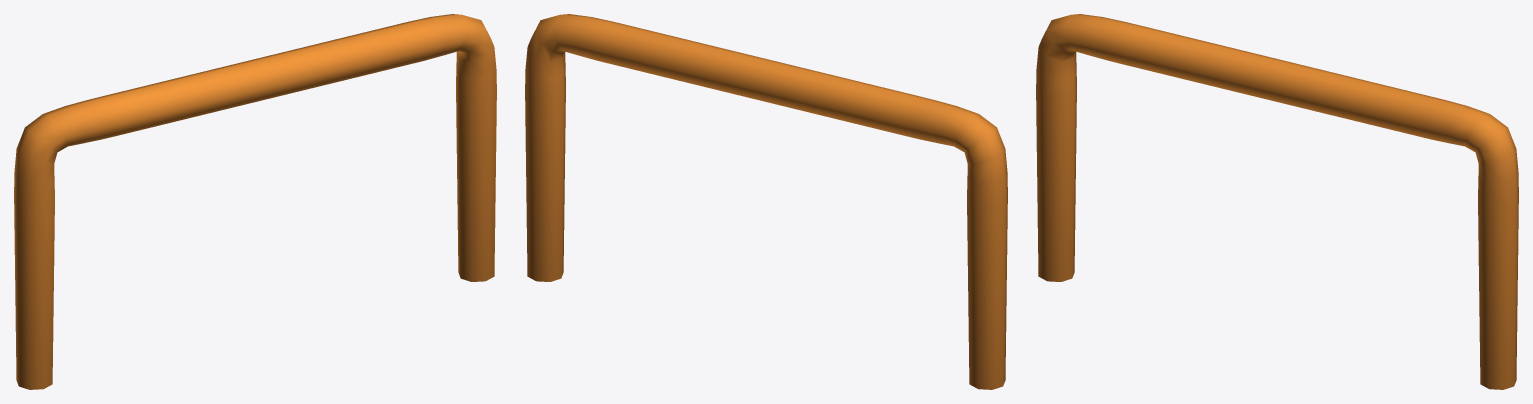
Rendered from Gates.fbx.
The picture shows the model from 3 angles, left to right: view 1: azimuth 30°, elevation 25°; view 2: azimuth 150°, elevation 25°; view 3: azimuth 330°, elevation 25°; orthographic projection.
Parts seen in each view (by area): view 1: gates; view 2: gates; view 3: gates.
Boxes of the visible parts, bbox=[...] form: gates: bbox=[14, 14, 496, 389]; gates: bbox=[525, 14, 1007, 389]; gates: bbox=[1036, 14, 1518, 389].
Bounding box in the file's own units: 953 × 510 × 73.58.
